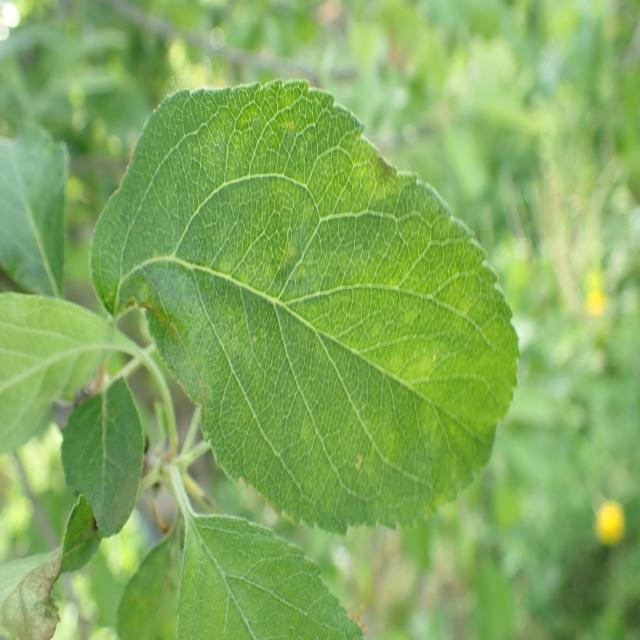scab: (148, 95, 520, 522)
